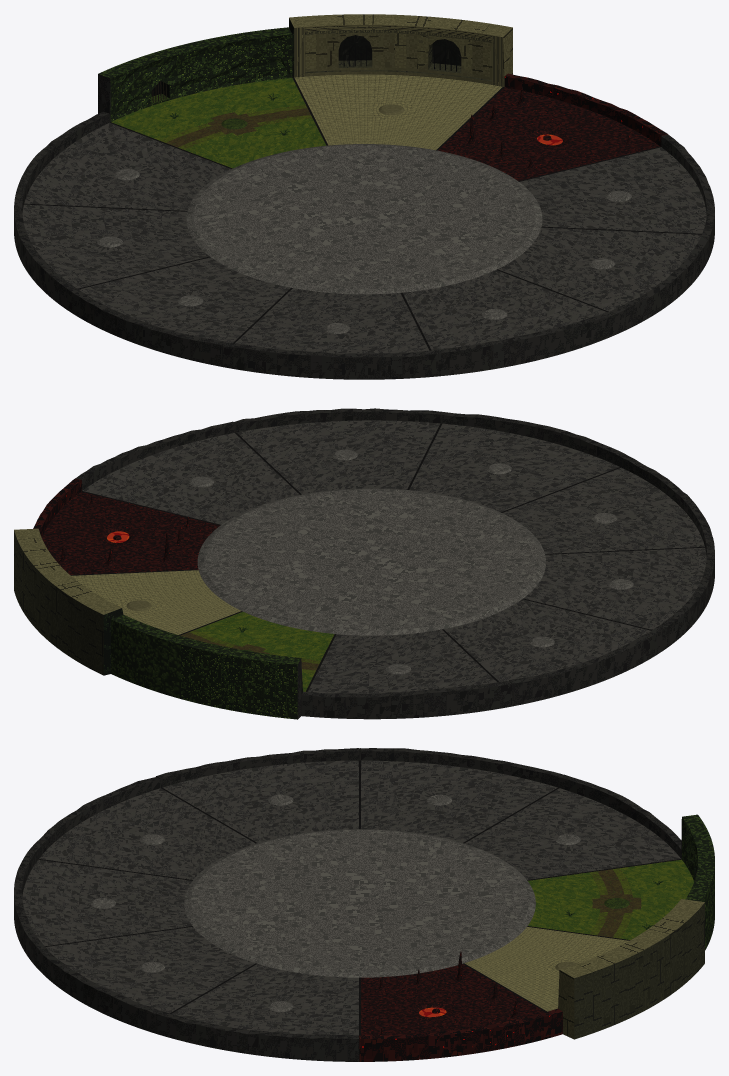
The model's file is hub_base.glb.
3 renders of one model, top to bottom at view 1: azimuth 30°, elevation 25°; view 2: azimuth 150°, elevation 25°; view 3: azimuth 270°, elevation 25°, orthographic. The views are drawn at different scales.
Parts seen in each view (by area): view 1: HubBaseRock; view 2: HubBaseRock; view 3: HubBaseRock.
Part boxes in pixels (x1,y1,x2,y2): HubBaseRock: (14, 14, 714, 379); HubBaseRock: (14, 408, 714, 719); HubBaseRock: (14, 748, 714, 1061).
Size of what is drawn, in the model's own units: 102 by 10 by 104.
5 materials, 5 textured.
